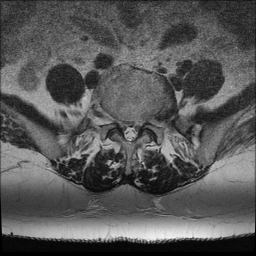CCS_normal: (127, 113, 134, 150)
LFS_severe_stenosis: (140, 110, 149, 132)
LLS_normal: (134, 112, 140, 144)
RFS_stenosis: (113, 109, 121, 132)
RLS_normal: (121, 112, 127, 144)
